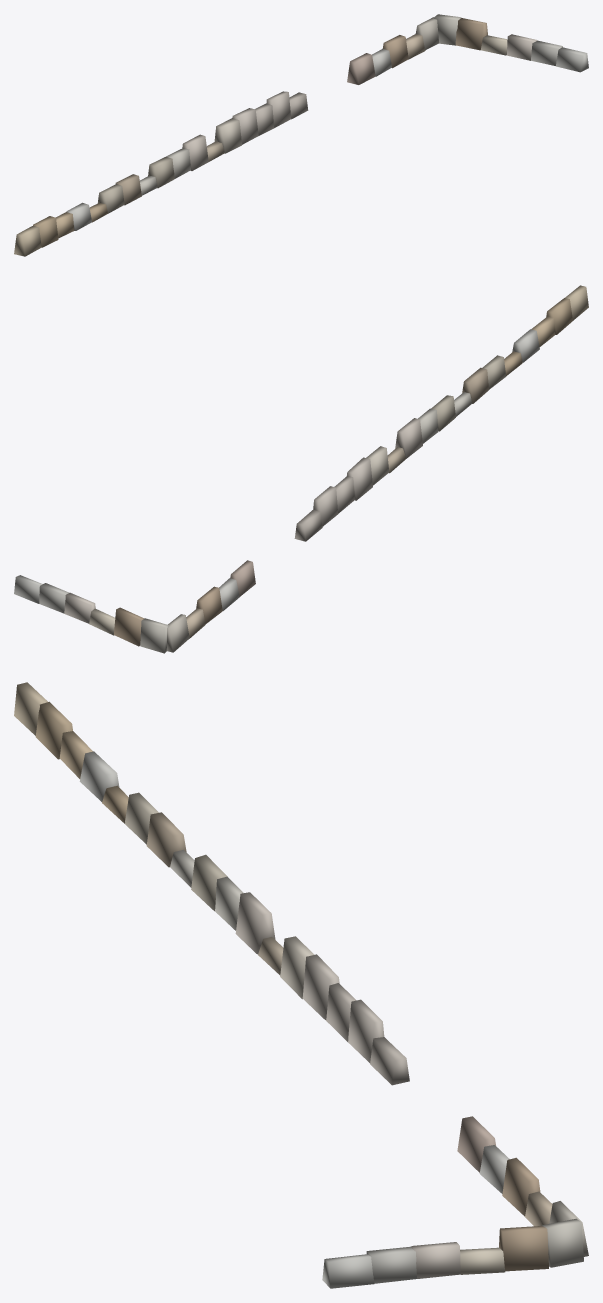
The model's file is farm_1_11_far.glb.
3 renders of one model, top to bottom at view 1: azimuth 30°, elevation 25°; view 2: azimuth 210°, elevation 25°; view 3: azimuth 270°, elevation 25°, orthographic. The views are drawn at different scales.
Parts seen in each view (by area): view 1: geometry_0; view 2: geometry_0; view 3: geometry_0.
Boxes of the visible parts, <box> form: geometry_0: <box>14,14,588,256</box>; geometry_0: <box>14,285,588,653</box>; geometry_0: <box>14,682,588,1288</box>.
Bounding box in the file's own units: 39 × 4.73 × 18.94.
